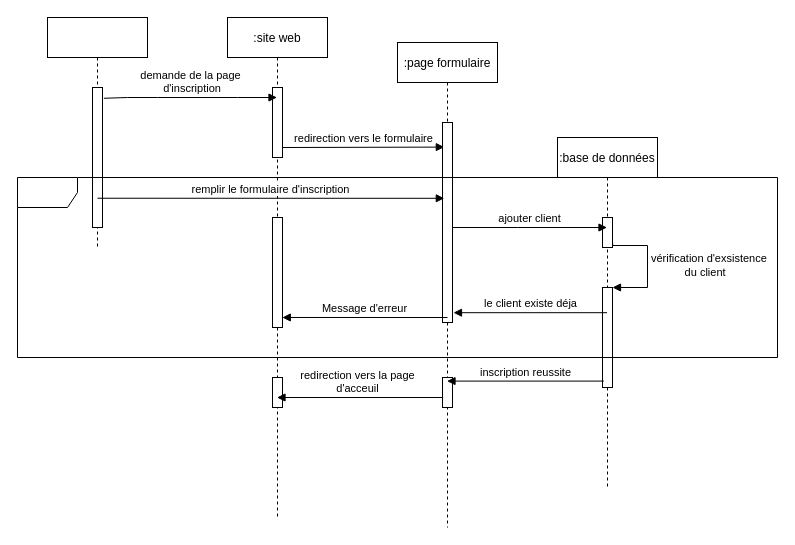
The diagram is 795 pixels wide and 545 high, and some of its shapes have lost their labels. The shapes that lost their labels are listed below. From the top down, each one's box as (x1, y1, x2, y2) in pixels, then its label:
(46, 16, 148, 248): :visiteur
(16, 176, 778, 358): loop(1,n)
